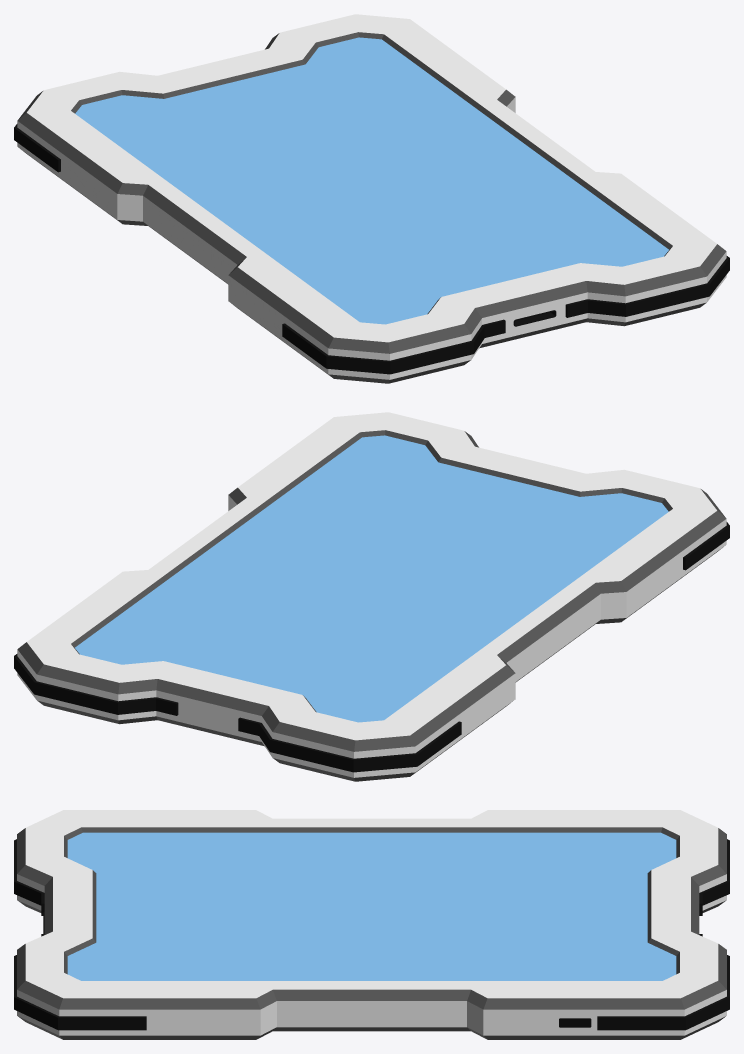
File: Tablet.glb
The picture shows the model from 3 angles, top to bottom: view 1: azimuth 30°, elevation 25°; view 2: azimuth 150°, elevation 25°; view 3: azimuth 270°, elevation 25°; orthographic projection.
Visible parts, largest first — view 1: LP1, LP2; view 2: LP1, LP2; view 3: LP1, LP2.
Part boxes in pixels (x1,y1,x2,y2): LP1: (17,14,726,383); LP2: (14,124,729,374); LP1: (17,412,726,781); LP2: (14,522,729,772); LP1: (17,810,726,1039); LP2: (14,839,729,1030).
Size of the model in its own units: 46.01 by 4.51 by 70.33.
